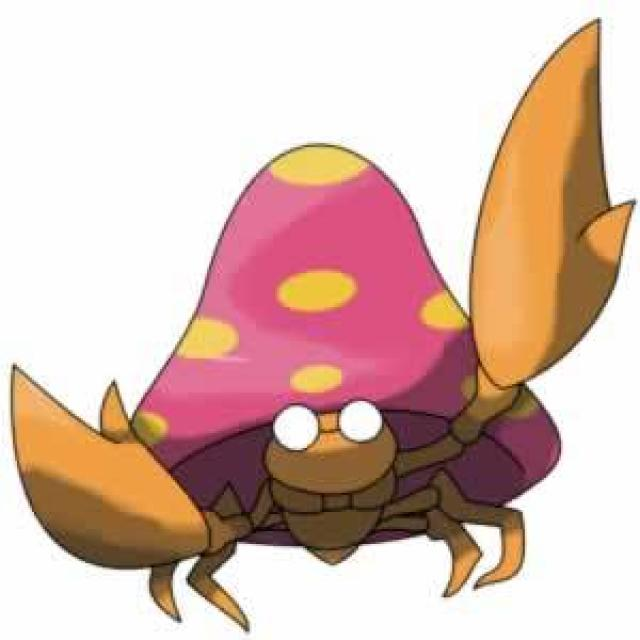Parasect: (61, 108, 579, 606)
